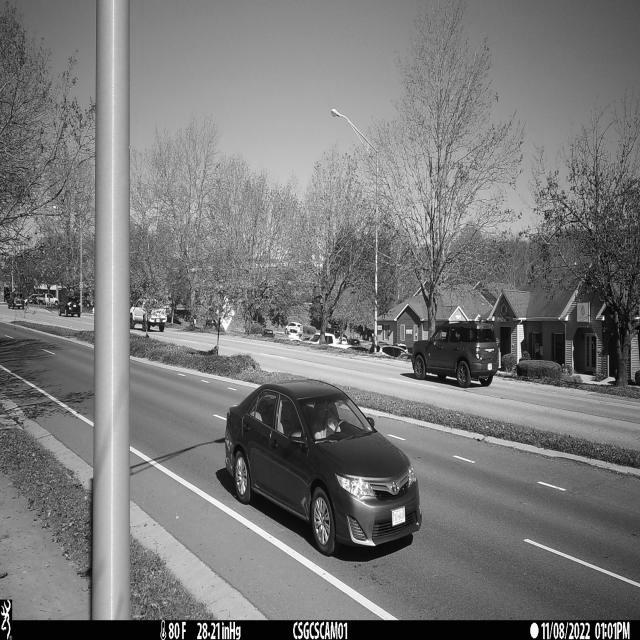Sedan: (222, 382, 420, 556)
